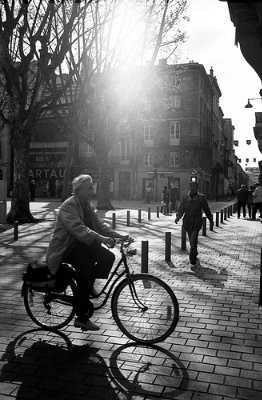person: (47, 176, 133, 332), (175, 181, 214, 265)
